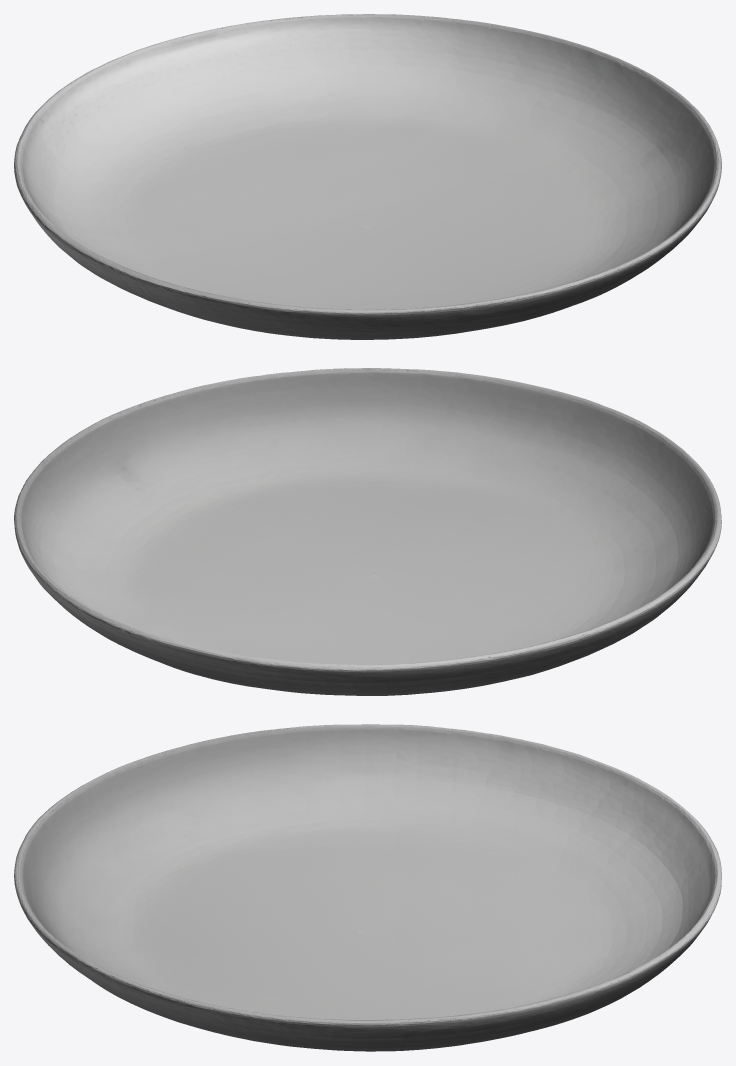
3 renders of one model, top to bottom at view 1: azimuth 30°, elevation 25°; view 2: azimuth 150°, elevation 25°; view 3: azimuth 270°, elevation 25°, orthographic.
Parts seen in each view (by area): view 1: geometry_0; view 2: geometry_0; view 3: geometry_0.
Boxes of the visible parts, x1,y1,x2,y2 form: geometry_0: [14, 14, 721, 339]; geometry_0: [14, 368, 721, 695]; geometry_0: [14, 724, 721, 1051].
Size of the model in its own units: 0.1954 by 0.0216 by 0.1958.
Materials: 1 (1 with a texture image).
